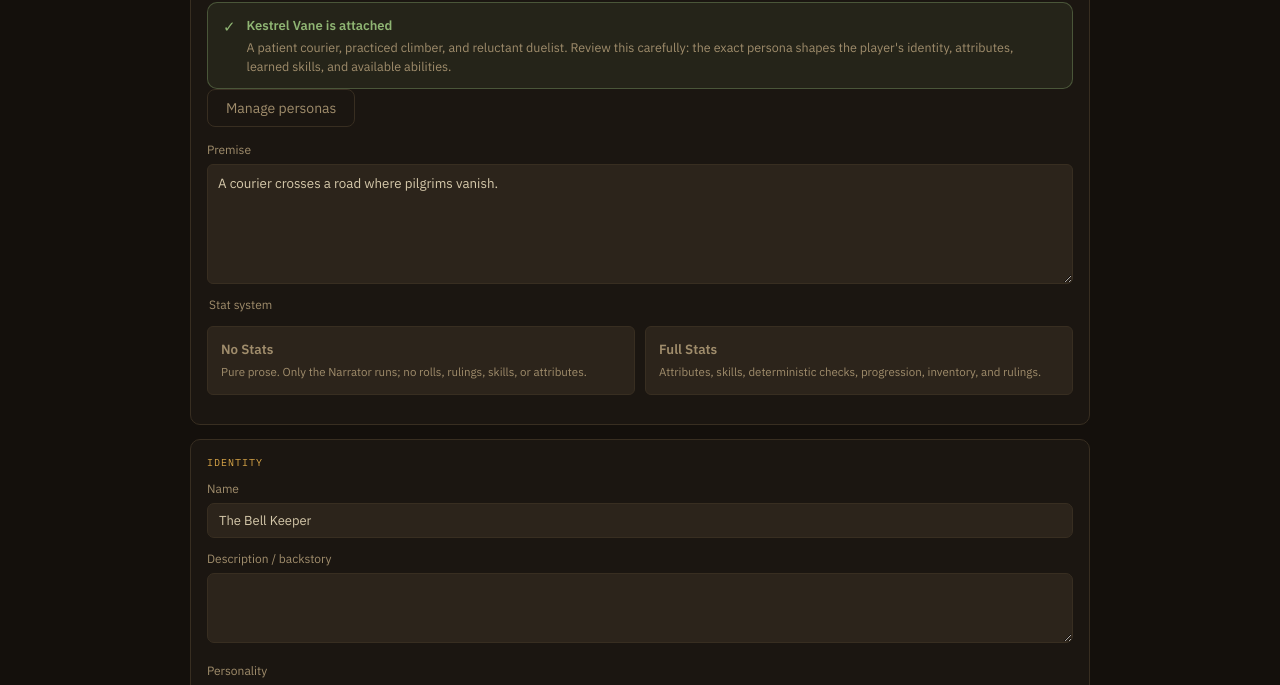
Test: StoryBlueprint create flow › lets the user cancel a stalled forge without losing the draft
(page scrolled)
Click the button "Full Stats" at coordinates (688, 349), box [645,326,1073,395]
(page scrolled)
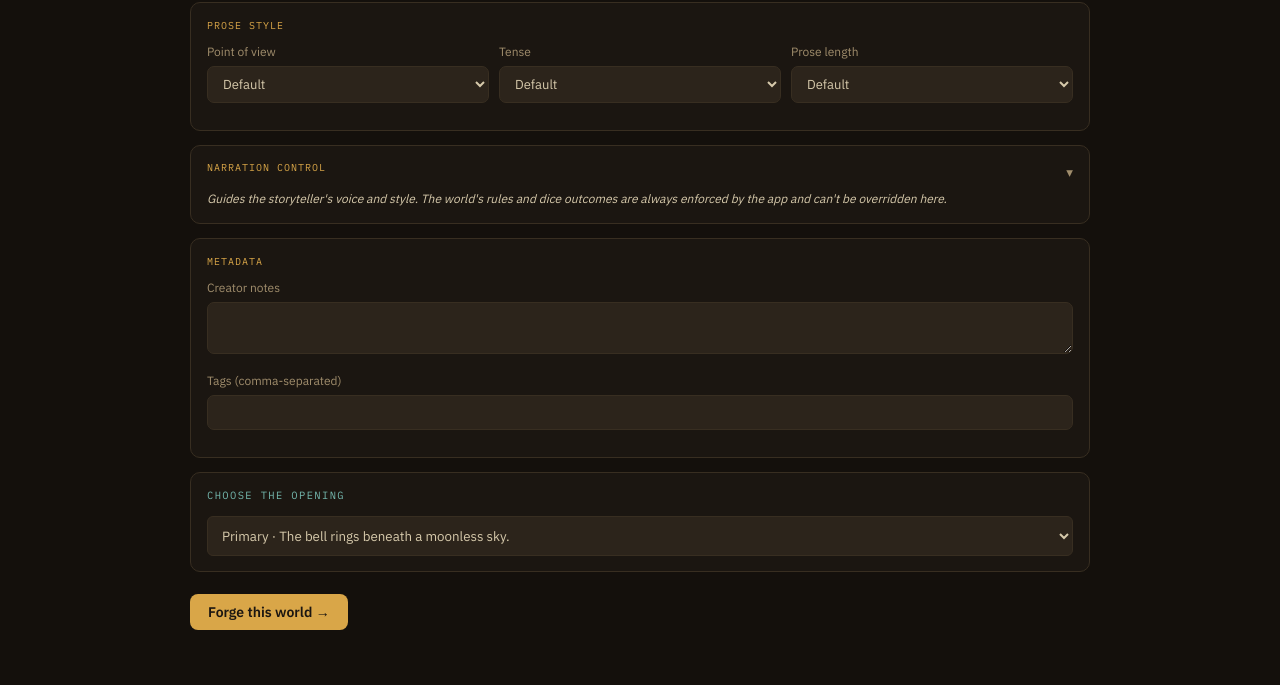
Click the button "Forge this world →" at coordinates (269, 612), box [190,594,348,630]
(page scrolled)
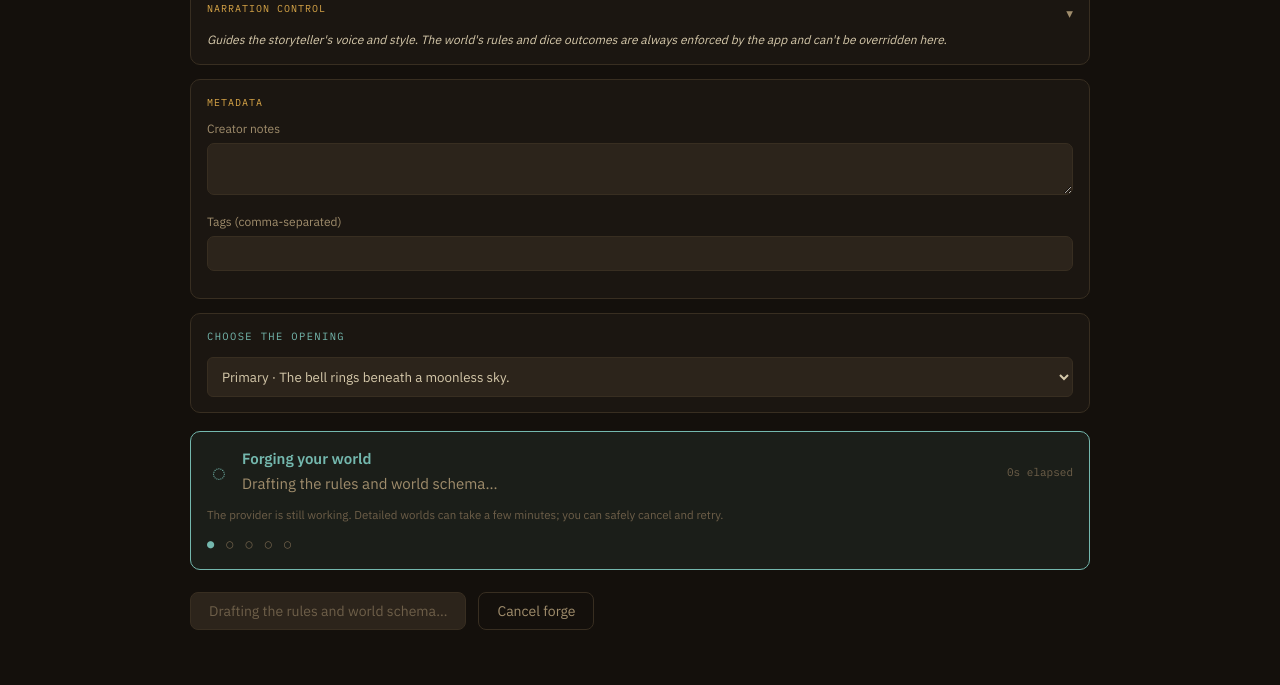
Click the button "Cancel forge" at coordinates (536, 611), box [478,592,594,630]
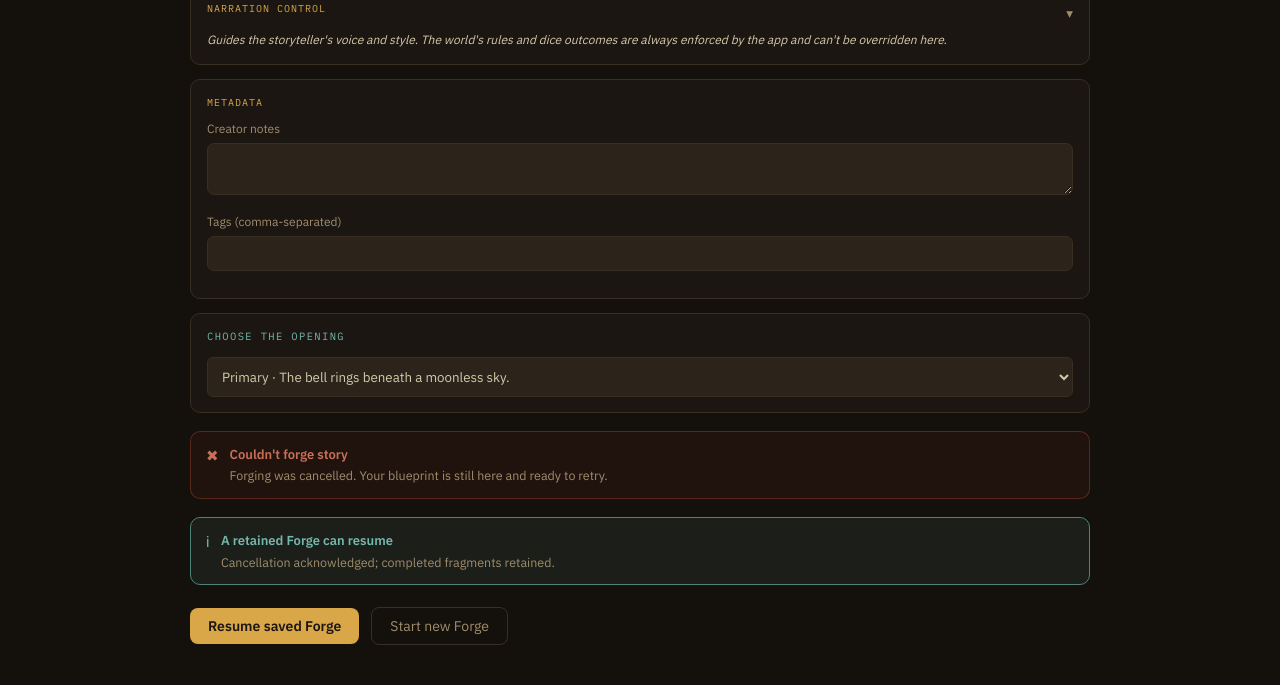
Now the text "Forging was cancelled" is shown, box [230,467,608,483]
Now the button "Start new Forge" is shown, box [371,607,508,645]
